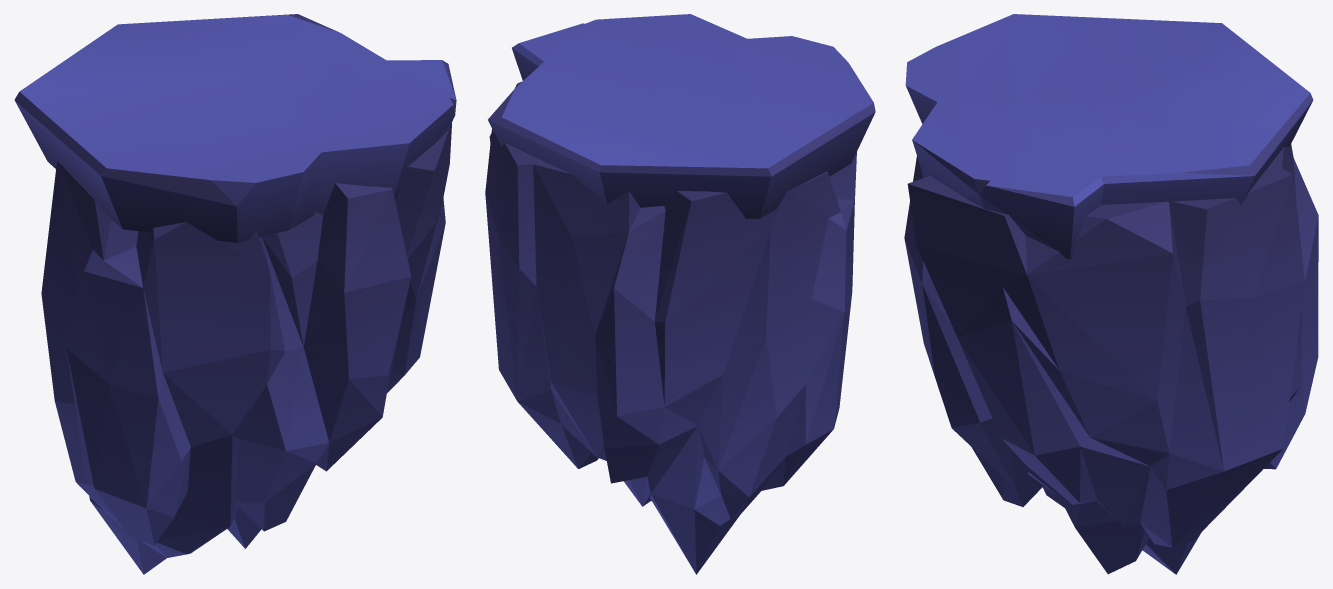
The model's file is Floating_Rock_01.fbx.
3 renders of one model, left to right at view 1: azimuth 30°, elevation 25°; view 2: azimuth 150°, elevation 25°; view 3: azimuth 270°, elevation 25°, orthographic. The views are drawn at different scales.
Parts seen in each view (by area): view 1: Merged_PM3D_rocks3.022; view 2: Merged_PM3D_rocks3.022; view 3: Merged_PM3D_rocks3.022.
Boxes of the visible parts, box(x1,y1,x2,y2) form: Merged_PM3D_rocks3.022: box(14, 14, 456, 574); Merged_PM3D_rocks3.022: box(485, 14, 875, 574); Merged_PM3D_rocks3.022: box(904, 14, 1318, 574).
Size of the model in its own units: 888 by 1115 by 832.
